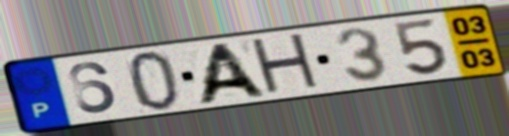0: (125, 49, 183, 113)
3: (334, 25, 390, 86)
5: (390, 17, 451, 76)
6: (67, 60, 121, 116)
A: (193, 40, 272, 107)
H: (246, 31, 325, 99)
